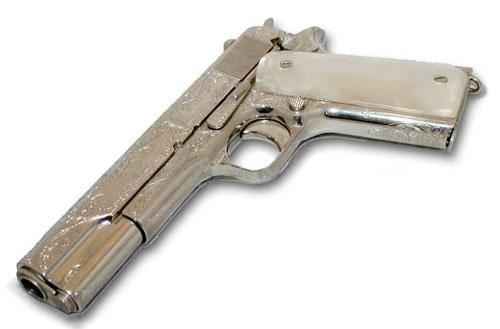gun: (7, 11, 488, 309)
